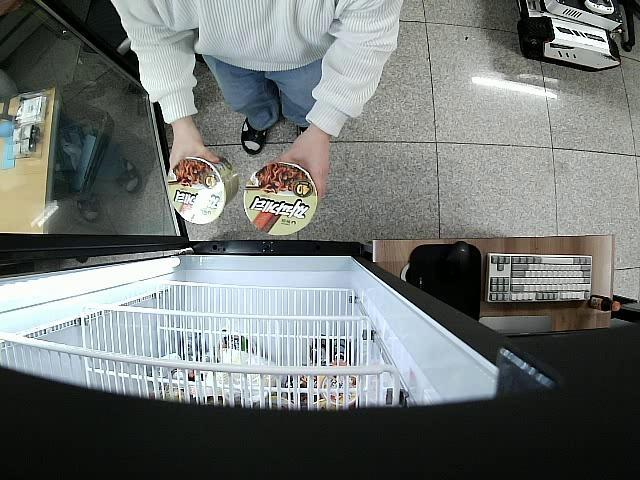03_chapagetti_L: (244, 163, 318, 236), (169, 154, 238, 226)
